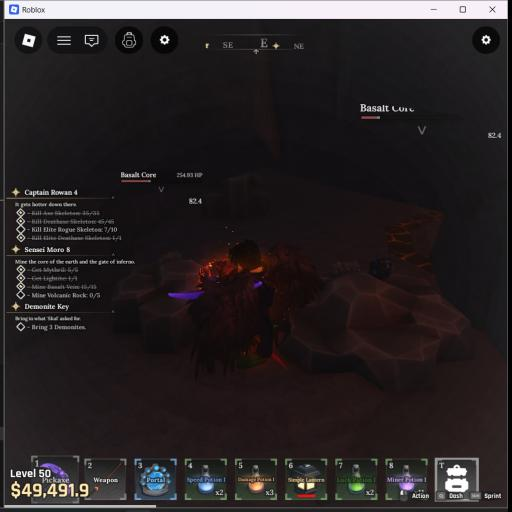player: (185, 240, 323, 378)
rock: (281, 274, 473, 390), (111, 259, 199, 353)
